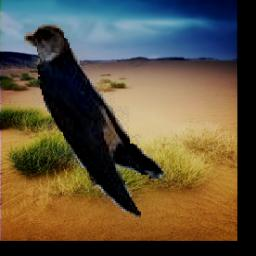Swallow: (25, 25, 210, 227)
